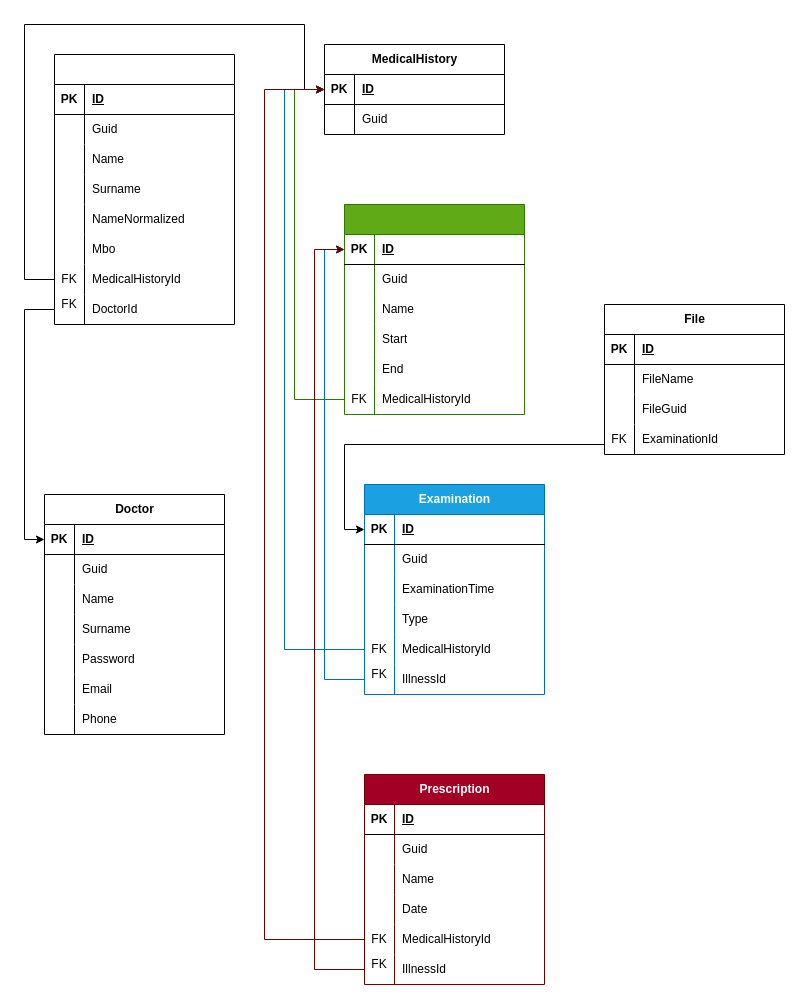
Image size: 802x1002. Some labels were removed from this diagram. Each missing label, with the box of its shape:
Illness: (344, 204, 524, 414)
Patient: (54, 54, 234, 324)
